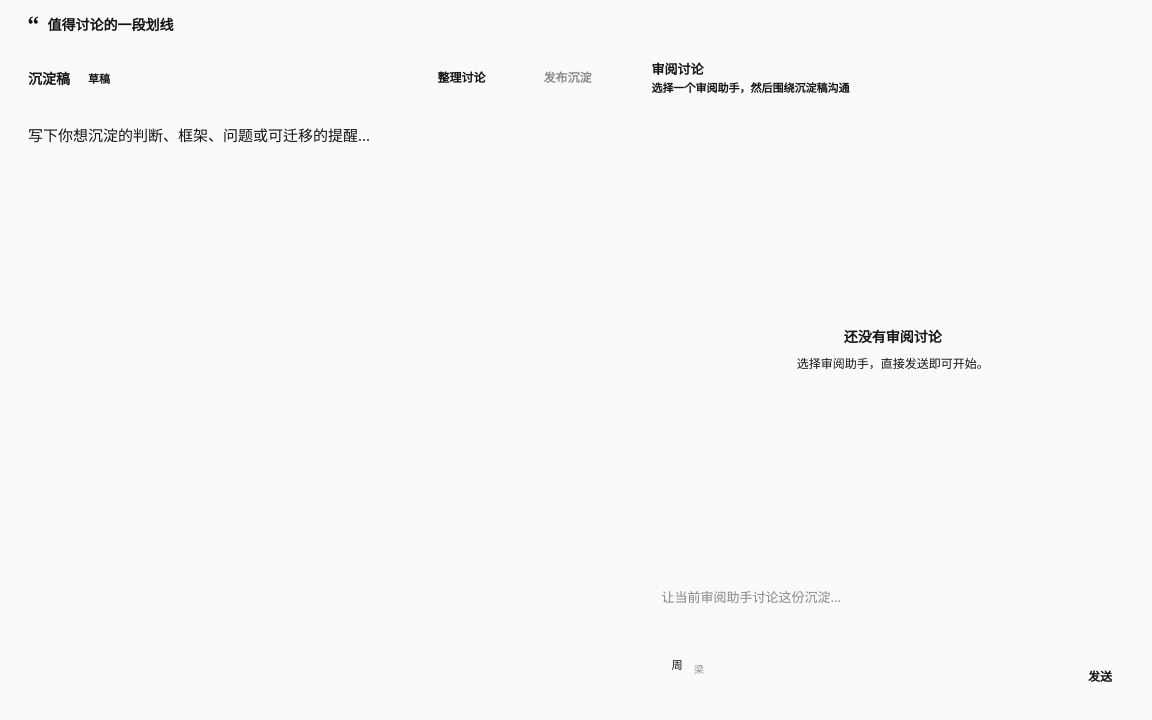
Scenario: annotation distillation UI › renders organized discussion in the draft area without saving a review session
This screenshot has width=1152, height=720.
Click the button "整理讨论".
click(451, 78)  # box [402,58,500,98]
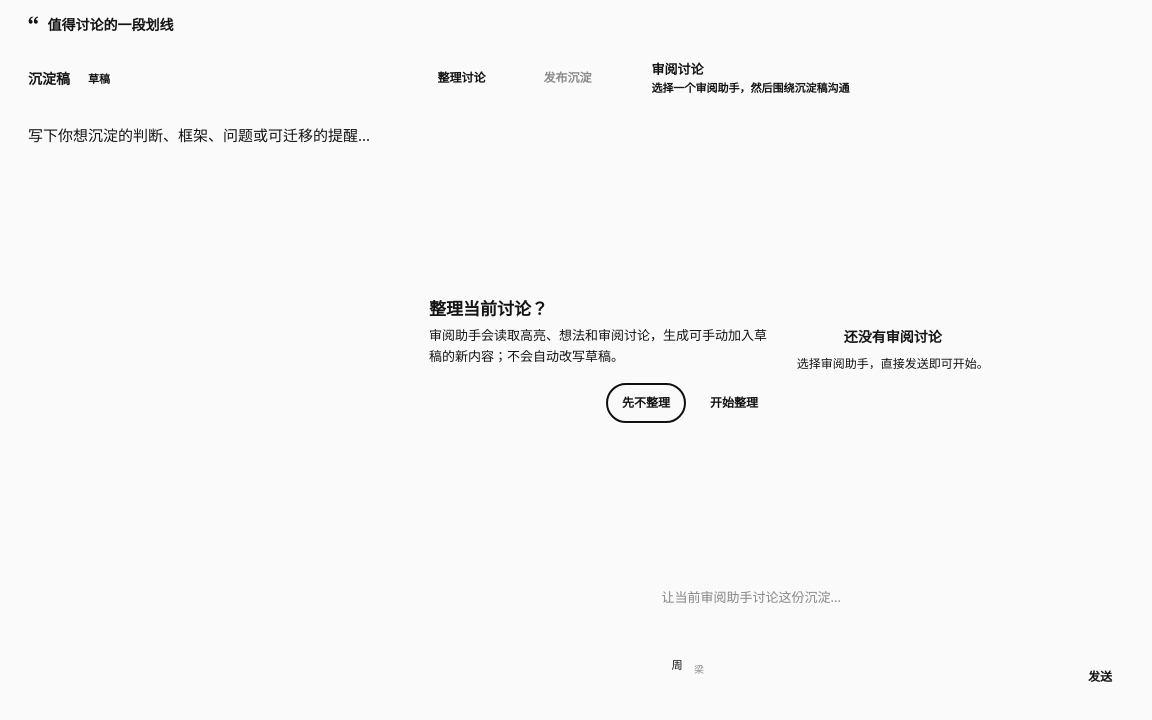
Check: the heading "整理当前讨论？" is shown, box [429,297,548,320]
Check: the text "审阅助手会读取高亮、想法和审阅讨论，生成可手动加入草稿的新内容；不会自动改写草稿。" is shown, box [429,325,773,366]
Click the button "开始整理".
click(734, 403)  # box [695,384,773,422]
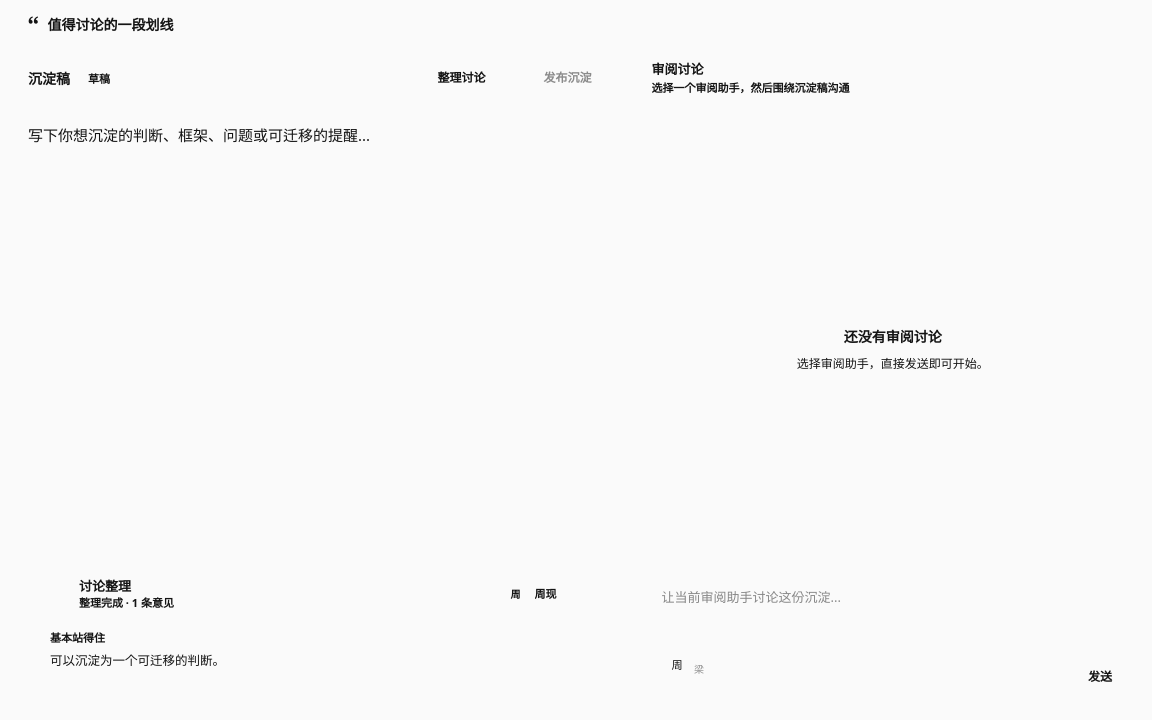
Check: the text "还没有审阅讨论" is shown, box [844,326,942,346]
Check: the text "讨论整理" is shown, box [79,577,131,595]
Check: the text "可以沉淀为一个可迁移的判断。" is shown, box [50,652,225,669]
